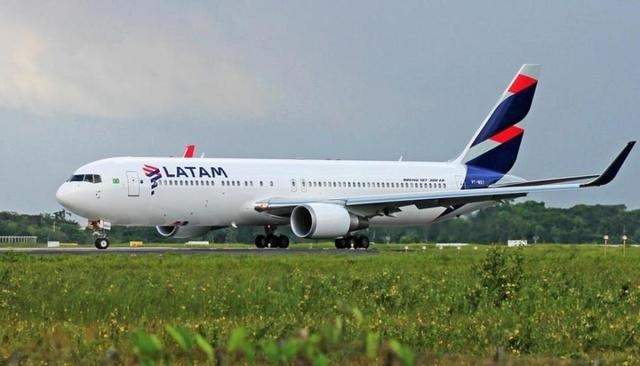airplane: (53, 65, 634, 255)
